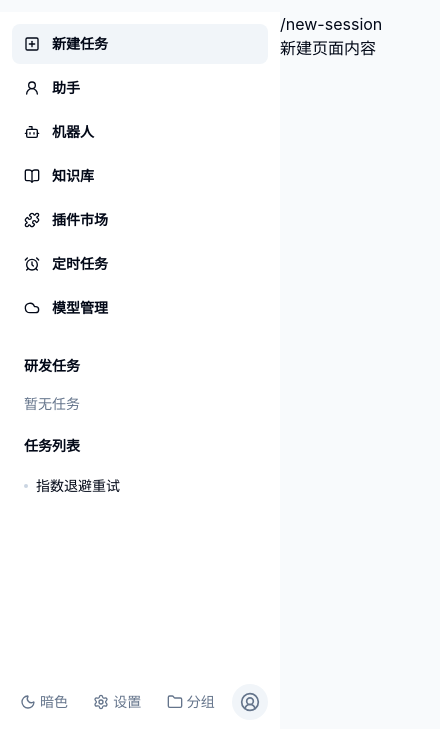
Test: WorkspaceLayout › navigates to the bot management page from the guada sidebar
Click the button "机器人": (140, 132) x1=12 y1=112 x2=268 y2=152
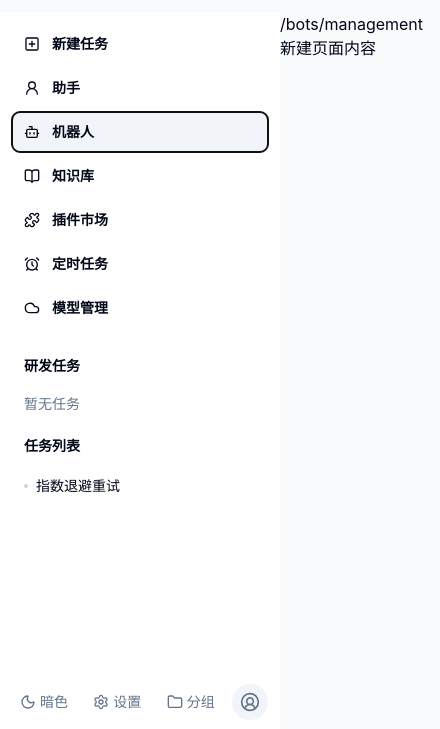
Expected: the text with test id "location-path" reads "/bots/management", x1=280 y1=14 x2=423 y2=34
